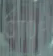Stop: (4, 3, 51, 50)
